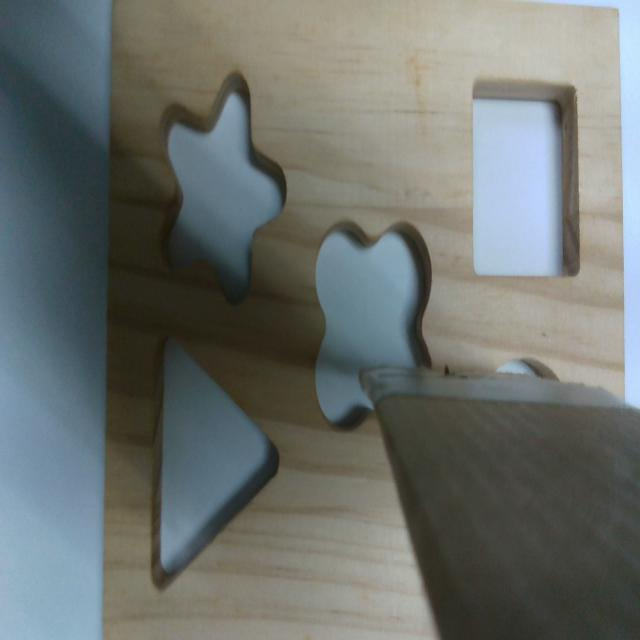flower: (315, 219, 433, 430)
square: (472, 81, 579, 275)
star: (160, 70, 288, 297)
triangle: (148, 331, 281, 592)
